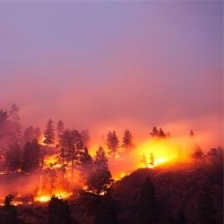fire: (9, 139, 202, 210)
